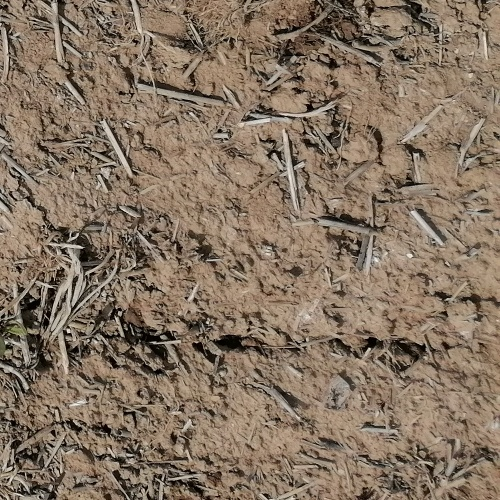beet: (0, 319, 28, 353)
